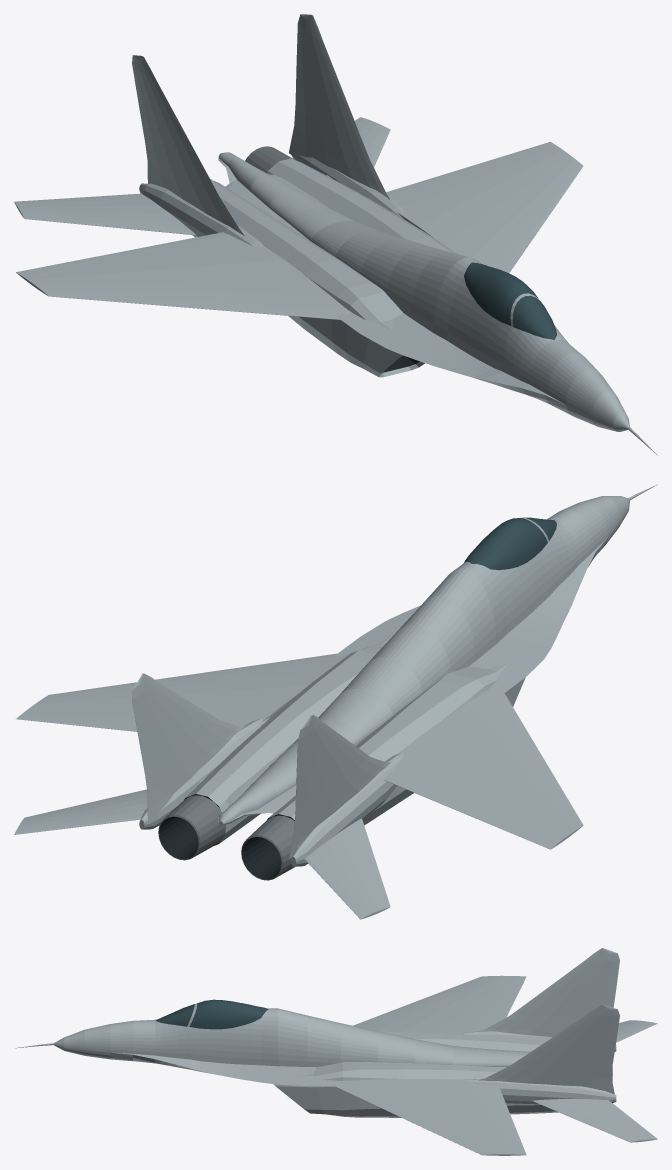
Rendered from mig29a.glb.
3 renders of one model, top to bottom at view 1: azimuth 30°, elevation 25°; view 2: azimuth 150°, elevation 25°; view 3: azimuth 270°, elevation 25°, orthographic. The views are drawn at different scales.
Parts seen in each view (by area): view 1: Airframe, Stabilator_L, Stabilator_R, Exhausts; view 2: Airframe, Exhausts, Stabilator_L, Stabilator_R; view 3: Airframe, Stabilator_R, Stabilator_L.
Boxes of the visible parts, bbox=[...] form: Airframe: bbox=[16, 14, 657, 455]; Stabilator_L: bbox=[14, 193, 196, 235]; Stabilator_R: bbox=[355, 117, 390, 166]; Exhausts: bbox=[210, 146, 294, 179]; Airframe: bbox=[16, 484, 657, 866]; Exhausts: bbox=[158, 795, 295, 880]; Stabilator_L: bbox=[304, 818, 390, 919]; Stabilator_R: bbox=[14, 789, 147, 834]; Airframe: bbox=[15, 948, 619, 1155]; Stabilator_R: bbox=[532, 1099, 657, 1142]; Stabilator_L: bbox=[616, 1020, 657, 1042].
Size of the model in its own units: 11.36 by 3.64 by 17.32.
